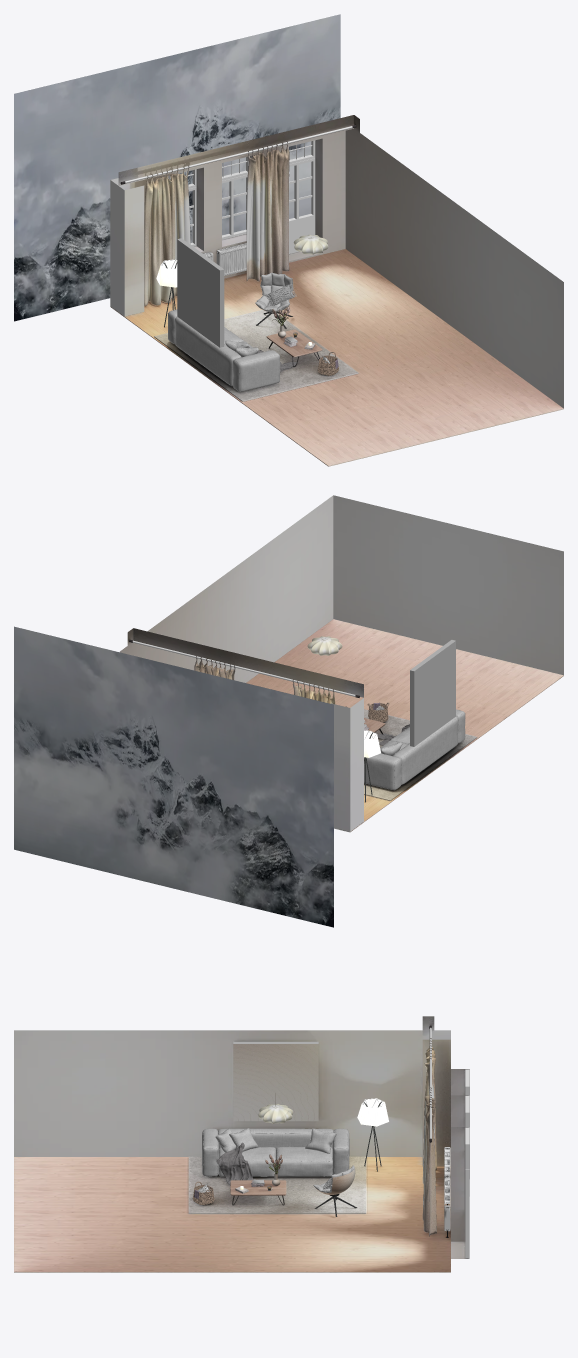
The model's file is cozy_living_room_baked_small.glb.
3 views of the same model, one above another, from view 1: azimuth 30°, elevation 25°; view 2: azimuth 150°, elevation 25°; view 3: azimuth 270°, elevation 25° (orthographic). The views are drawn at different scales.
Visible parts, largest first — view 1: Plane.003_Material.004_0, Cube_Material_0, Cube.019_Birch Wood Flooring English_0, CURTAIN 2.008_Material.001_0, Cube.007_Material.023_0, Plane_Material.021_0, Leather Sofa_Fabric.002_0, Cube.034_Fabric.001_0, Cube.021_Material.009_0, Sphere.001_Leather Fabric 01.002_0; view 2: Plane.003_Material.004_0, Cube_Material_0, Cube.019_Birch Wood Flooring English_0, Cube.007_Material.023_0, Leather Sofa_Fabric.002_0, Plane_Material.021_0, CURTAIN 2.008_Material.001_0, Sphere.001_Leather Fabric 01.002_0; view 3: Cube_Material_0, Cube.019_Birch Wood Flooring English_0, Leather Sofa_Fabric.002_0, Plane.001_Material.013_0, Plane_Material.021_0, Cube.007_Material.023_0, CURTAIN 2.008_Material.001_0, Plane.002_Tecido.005_0, Cube.021_Material.009_0, Circle.005_Leather Fabric 01_0, Sphere.001_Leather Fabric 01.002_0.
Boxes of the visible parts, left/top/right/bottom form: Plane.003_Material.004_0: left=14, top=14, right=340, bottom=321; Cube_Material_0: left=110, top=115, right=563, bottom=408; Cube.019_Birch Wood Flooring English_0: left=110, top=249, right=563, bottom=466; CURTAIN 2.008_Material.001_0: left=144, top=141, right=289, bottom=306; Cube.007_Material.023_0: left=120, top=125, right=356, bottom=368; Plane_Material.021_0: left=154, top=310, right=358, bottom=401; Leather Sofa_Fabric.002_0: left=168, top=309, right=280, bottom=391; Cube.034_Fabric.001_0: left=255, top=272, right=293, bottom=312; Cube.021_Material.009_0: left=266, top=329, right=322, bottom=357; Sphere.001_Leather Fabric 01.002_0: left=293, top=234, right=328, bottom=254; Plane.003_Material.004_0: left=14, top=626, right=333, bottom=927; Cube_Material_0: left=120, top=495, right=563, bottom=831; Cube.019_Birch Wood Flooring English_0: left=246, top=619, right=563, bottom=832; Cube.007_Material.023_0: left=129, top=639, right=455, bottom=802; Leather Sofa_Fabric.002_0: left=364, top=709, right=465, bottom=790; Plane_Material.021_0: left=364, top=709, right=477, bottom=800; CURTAIN 2.008_Material.001_0: left=194, top=656, right=335, bottom=704; Sphere.001_Leather Fabric 01.002_0: left=307, top=636, right=342, bottom=655; Cube_Material_0: left=14, top=1016, right=469, bottom=1258; Cube.019_Birch Wood Flooring English_0: left=14, top=1157, right=450, bottom=1272; Leather Sofa_Fabric.002_0: left=202, top=1128, right=349, bottom=1176; Plane.001_Material.013_0: left=233, top=1044, right=318, bottom=1121; Plane_Material.021_0: left=188, top=1156, right=366, bottom=1213; Cube.007_Material.023_0: left=194, top=1025, right=469, bottom=1258; CURTAIN 2.008_Material.001_0: left=422, top=1038, right=436, bottom=1236; Plane.002_Tecido.005_0: left=216, top=1142, right=253, bottom=1184; Cube.021_Material.009_0: left=230, top=1180, right=286, bottom=1195; Circle.005_Leather Fabric 01_0: left=357, top=1098, right=388, bottom=1126; Sphere.001_Leather Fabric 01.002_0: left=258, top=1093, right=293, bottom=1123.
Size of the model in its own units: 7.87 by 5.24 by 11.46.
22 materials, 22 textured.
